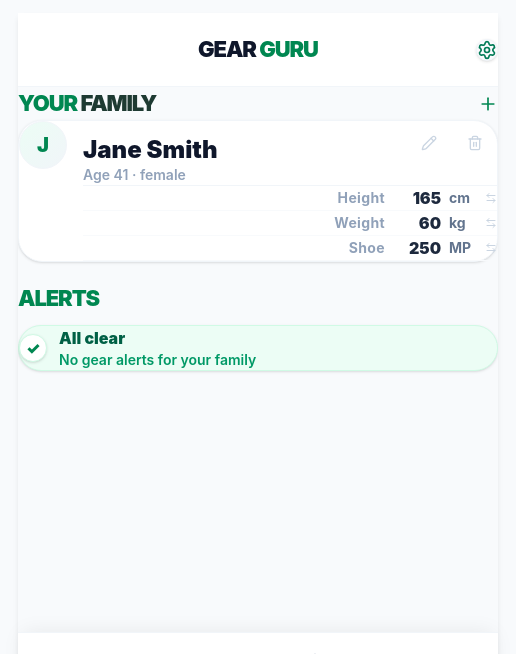
Test: App member operations › shows edit form when member card edit button clicked
Click the button named "edit": (429, 143) x1=407 y1=121 x2=451 y2=165
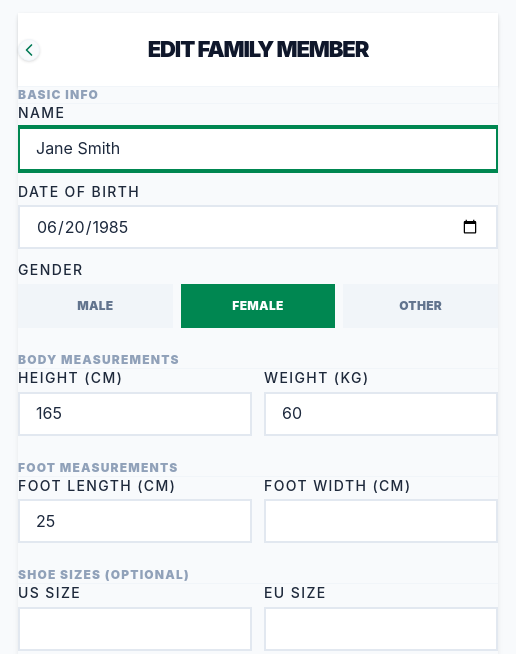
Now the heading "Edit Family Member" is shown, box x1=148 y1=33 x2=368 y2=66
